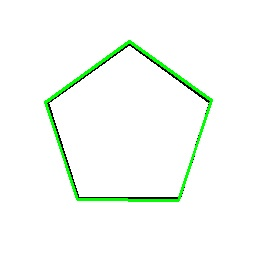line_segment: (45, 41, 212, 201)
